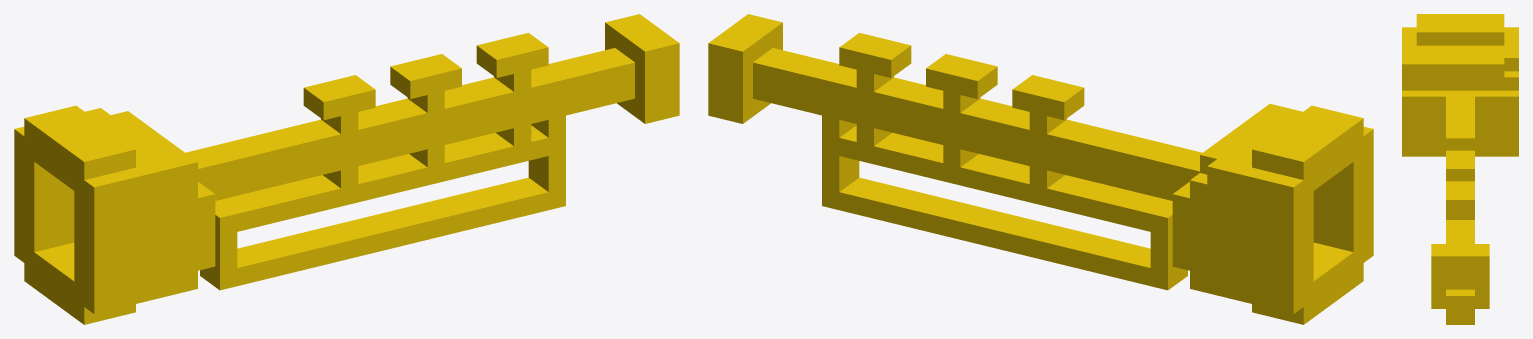
The model's file is SchoolPack-16-trumpet.obj.
The picture shows the model from 3 angles, left to right: view 1: azimuth 30°, elevation 25°; view 2: azimuth 150°, elevation 25°; view 3: azimuth 270°, elevation 25°; orthographic projection. The views are drawn at different scales.
Parts seen in each view (by area): view 1: trumpet; view 2: trumpet; view 3: trumpet.
Part boxes in pixels (x1,y1,x2,y2): trumpet: (14,14,679,324); trumpet: (708,14,1373,324); trumpet: (1402,14,1518,324).
Size of the model in its own units: 3.5 by 1 by 0.8.
Materials: 1 (1 with a texture image).
